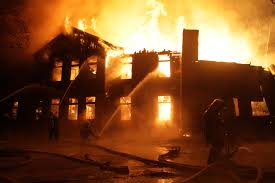fire: (52, 16, 221, 136)
